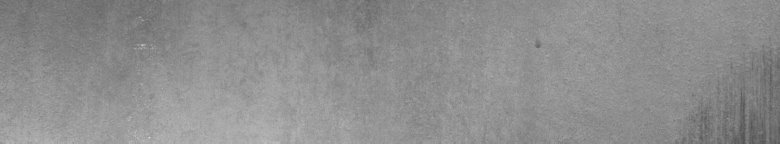ka: (689, 52, 775, 136)
